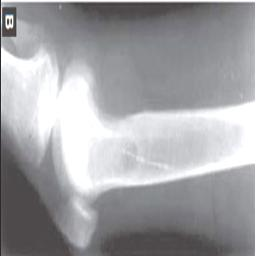cancer: (89, 56, 148, 135)
